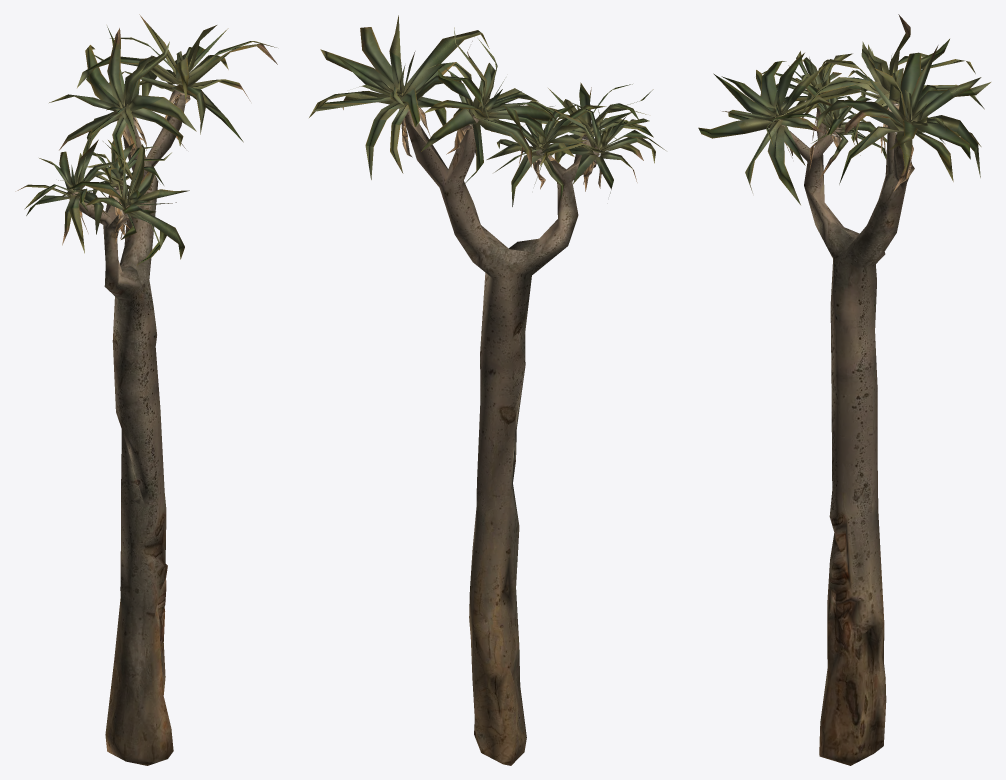
Rendered from quiver_tree.glb.
The picture shows the model from 3 angles, left to right: view 1: azimuth 30°, elevation 25°; view 2: azimuth 150°, elevation 25°; view 3: azimuth 270°, elevation 25°; orthographic projection. The views are drawn at different scales.
Parts seen in each view (by area): view 1: quiver_tree_01; view 2: quiver_tree_01; view 3: quiver_tree_01.
Boxes of the visible parts, <box> form: quiver_tree_01: <box>15,14,277,765</box>; quiver_tree_01: <box>309,15,665,765</box>; quiver_tree_01: <box>698,14,990,765</box>.
Size of the model in its own units: 1.18 by 2.7 by 0.9675.
2 materials, 2 textured.
